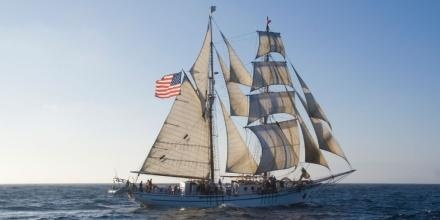fanchuan: (114, 7, 354, 206)
